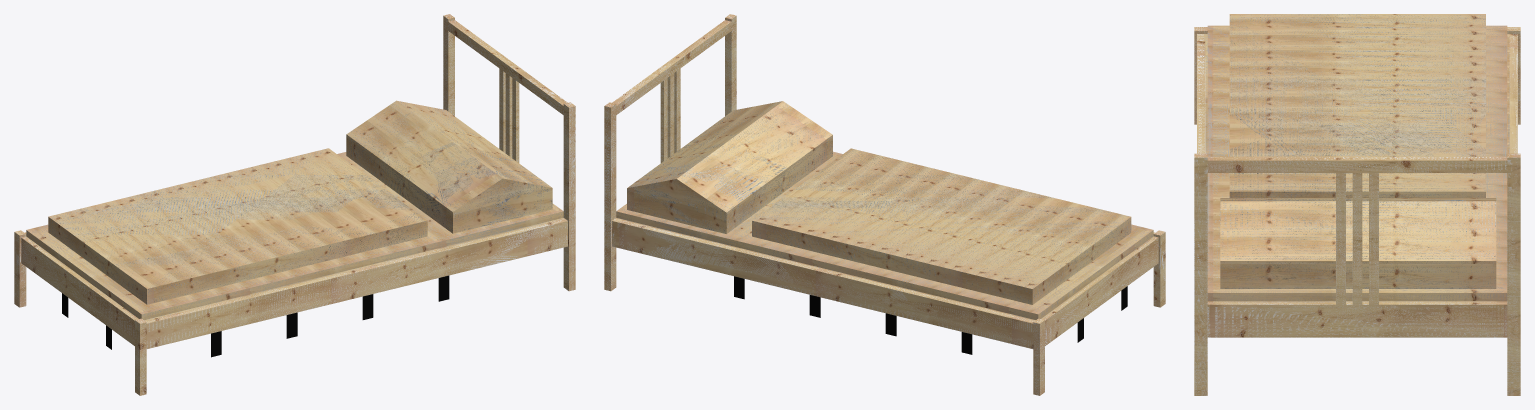
File: bed.dae
3 views of the same model, side by side, from view 1: azimuth 30°, elevation 25°; view 2: azimuth 150°, elevation 25°; view 3: azimuth 270°, elevation 25° (orthographic). The views are drawn at different scales.
Visible parts, largest first — view 1: SketchUp (×4); view 2: SketchUp (×4); view 3: SketchUp (×4).
Boxes of the visible parts, <box> form: SketchUp (×4): <box>14,14,575,395</box>; SketchUp (×4): <box>604,14,1165,395</box>; SketchUp (×4): <box>1194,14,1520,395</box>.
Size of the model in its own units: 2.01 by 1 by 0.8097.
5 materials, 3 textured.
